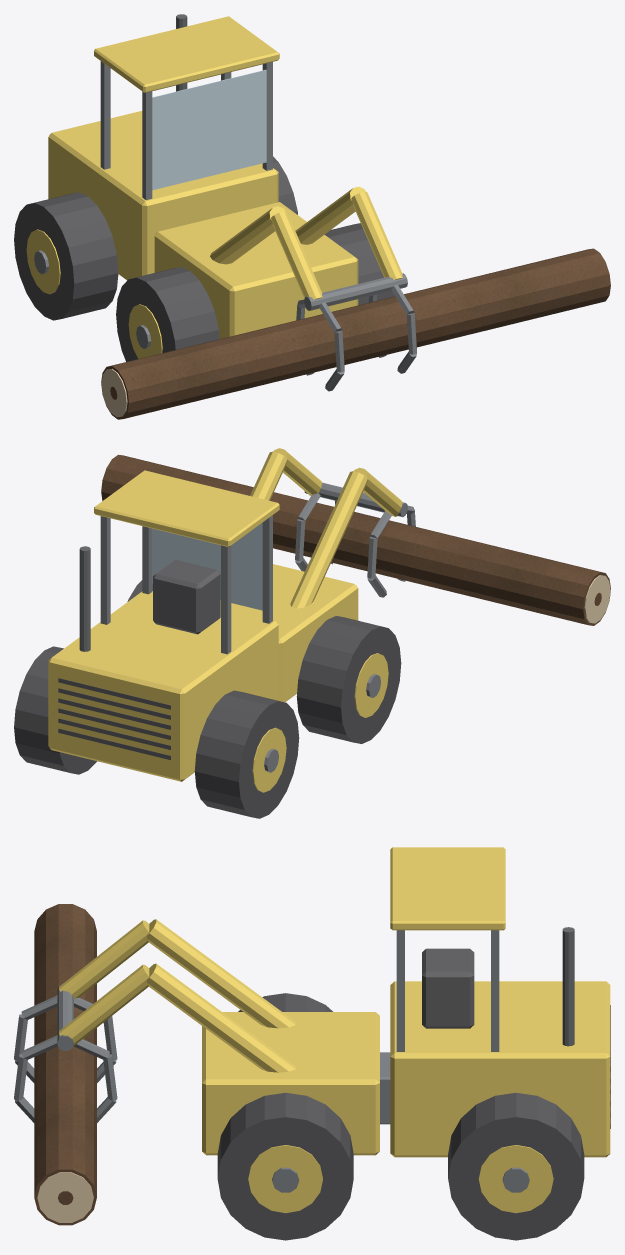
File: loader.glb
3 renders of one model, top to bottom at view 1: azimuth 30°, elevation 25°; view 2: azimuth 150°, elevation 25°; view 3: azimuth 270°, elevation 25°, orthographic. The views are drawn at different scales.
Visible parts, largest first — view 1: loader_yellow, loader_bark, loader_rubber, loader_glass, loader_steel_d, loader_log_end; view 2: loader_yellow, loader_rubber, loader_bark, loader_dark, loader_steel_d, loader_glass, loader_iron, loader_log_end; view 3: loader_yellow, loader_rubber, loader_bark, loader_steel_d, loader_dark, loader_log_end, loader_iron.
Boxes of the visible parts, left/top/right/bottom form: loader_yellow: left=26, top=16, right=402, bottom=358; loader_bark: left=101, top=248, right=610, bottom=419; loader_rubber: left=14, top=156, right=394, bottom=361; loader_glass: left=152, top=69, right=266, bottom=190; loader_steel_d: left=34, top=61, right=416, bottom=391; loader_log_end: left=101, top=369, right=127, bottom=417; loader_yellow: left=48, top=448, right=402, bottom=792; loader_rubber: left=14, top=580, right=401, bottom=818; loader_bark: left=101, top=454, right=610, bottom=625; loader_dark: left=58, top=559, right=220, bottom=760; loader_steel_d: left=100, top=482, right=415, bottom=772; loader_glass: left=152, top=523, right=262, bottom=610; loader_iron: left=79, top=546, right=90, bottom=651; loader_log_end: left=584, top=575, right=610, bottom=623; loader_yellow: left=59, top=847, right=610, bottom=1213; loader_rubber: left=217, top=993, right=584, bottom=1240; loader_bark: left=34, top=904, right=96, bottom=1225; loader_steel_d: left=14, top=930, right=529, bottom=1192; loader_dark: left=422, top=948, right=610, bottom=1128; loader_log_end: left=37, top=1172, right=93, bottom=1222; loader_iron: left=562, top=927, right=574, bottom=1046.
Size of the model in its own units: 6.03 by 3.1 by 5.7.
8 materials, 1 textured.
